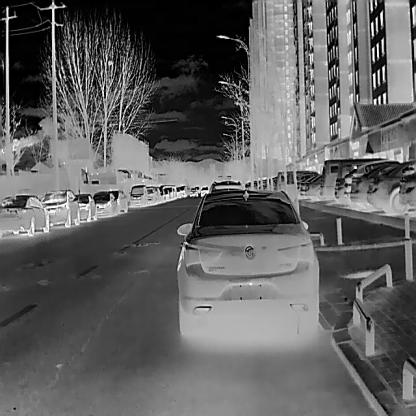car: (177, 191, 318, 335), (366, 160, 416, 215), (350, 163, 399, 207), (0, 194, 49, 236), (39, 188, 80, 226), (319, 158, 339, 196), (75, 193, 96, 222), (92, 193, 117, 217), (110, 189, 127, 212), (130, 184, 147, 206), (304, 174, 321, 196), (146, 185, 158, 205), (189, 186, 198, 197), (200, 185, 209, 196)
